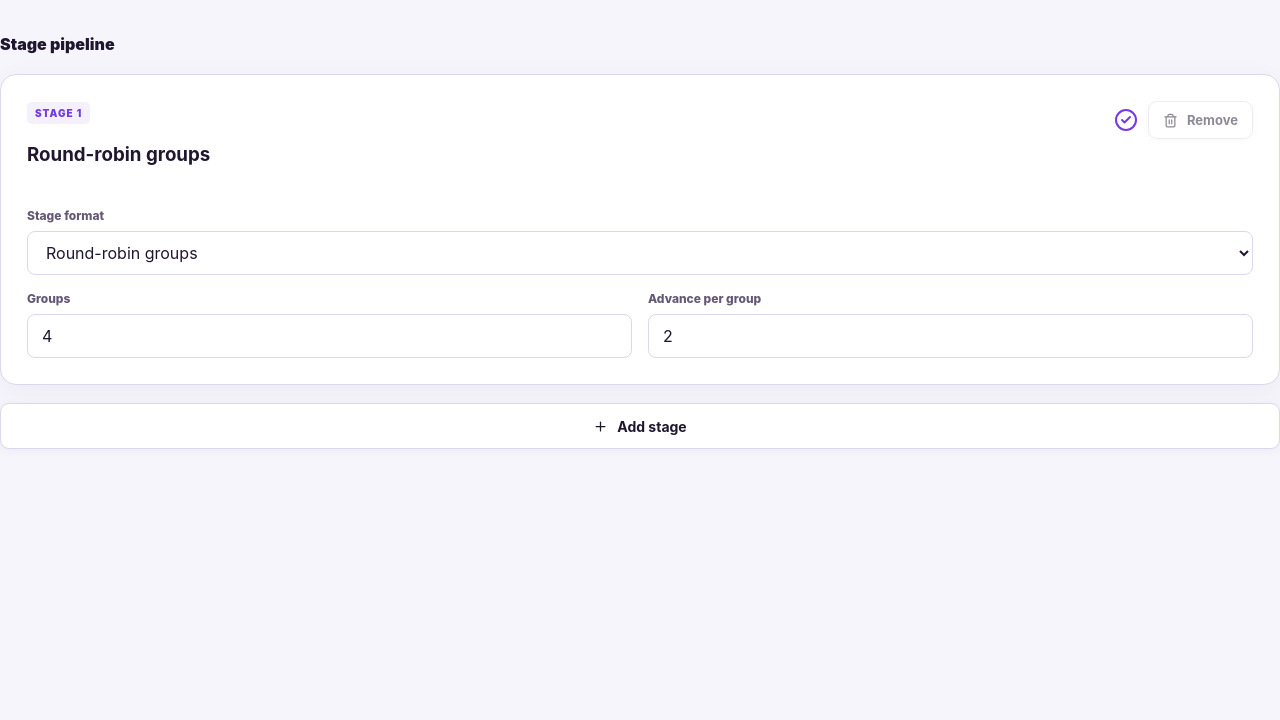
Scenario: TournamentStagePipeline › adds and removes stages while retaining at least one
The image size is (1280, 720).
Click the button "Add stage" at x=640, y=426, box [0,403,1279,449]
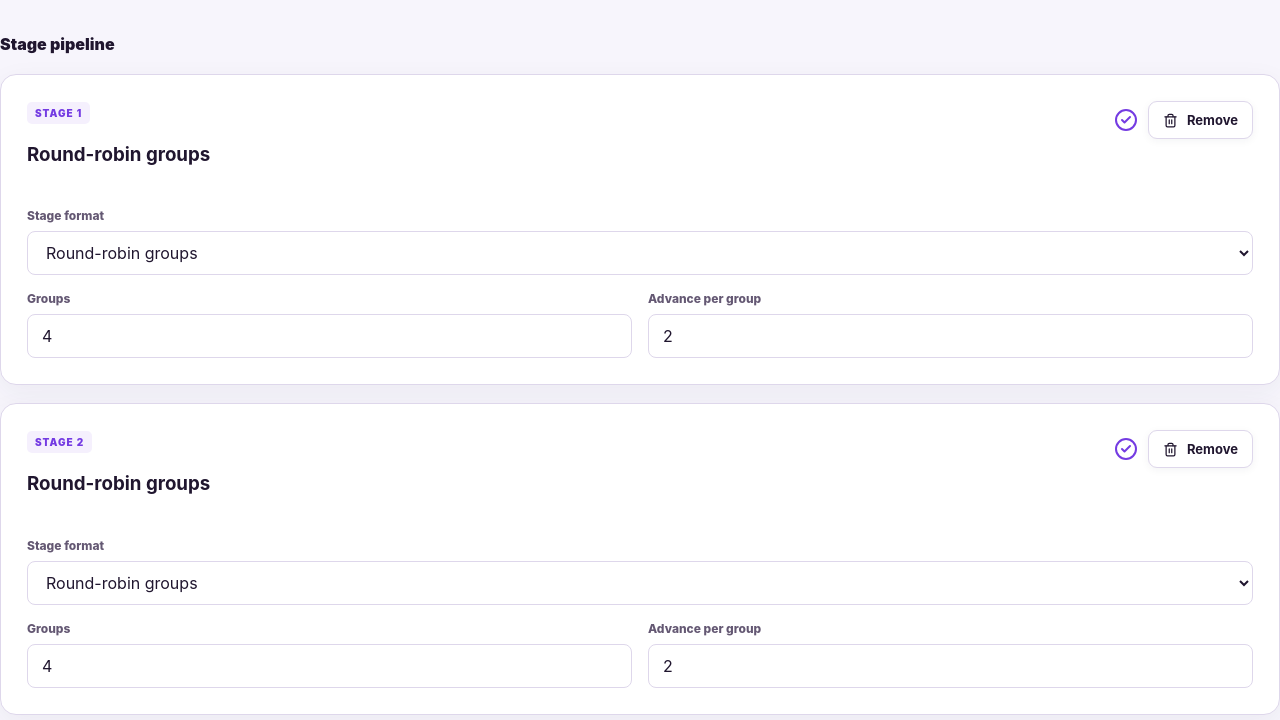
Check: the text "STAGE 2" is shown, box [27,431,92,453]
Check: the button with aria-label "Remove stage 1" is enabled, box [1148,101,1253,139]
Click the button with aria-label "Remove stage 2" at x=1200, y=449, box [1148,430,1253,468]
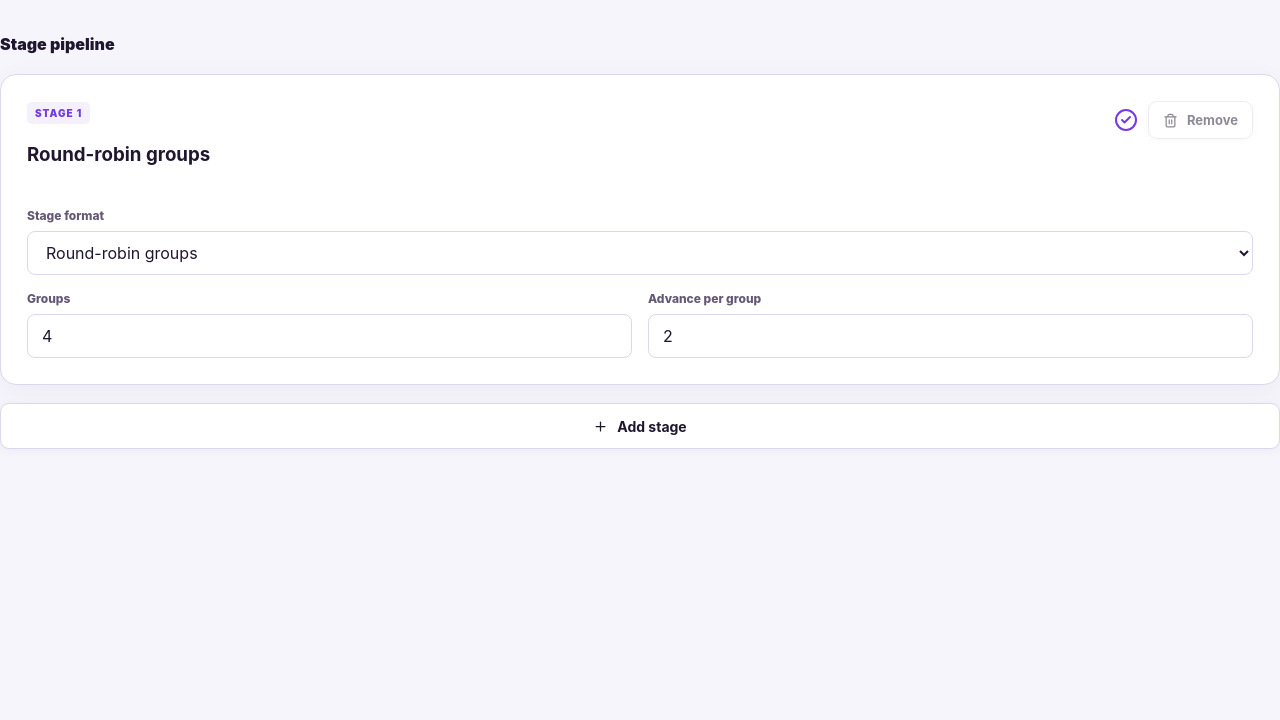
Check: the text "STAGE 2" is gone
Check: the button with aria-label "Remove stage 1" is disabled, box [1148,101,1253,139]
